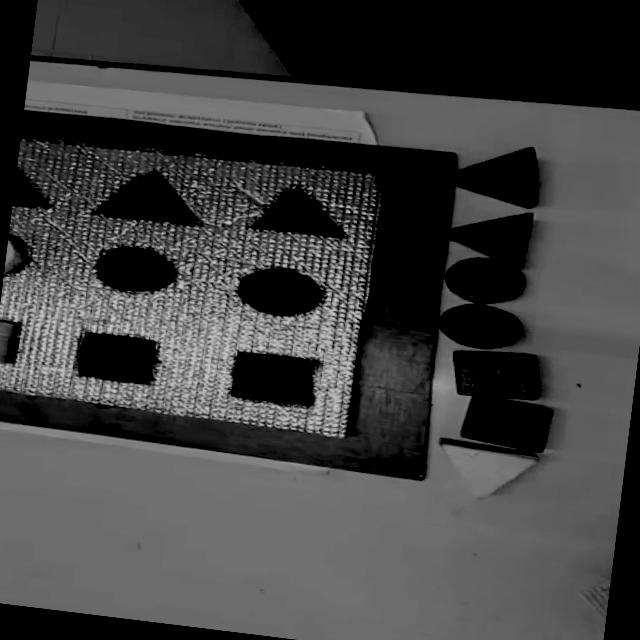bcircle: (434, 298, 526, 354)
bcube: (458, 394, 552, 454)
btriangle: (446, 203, 534, 267)
mtcircle: (230, 262, 330, 322), (91, 240, 180, 298)
mtcube: (225, 346, 321, 409), (74, 328, 162, 387)
mttriangle: (92, 162, 209, 230), (248, 180, 354, 242), (12, 160, 56, 210)
rcircle: (441, 252, 528, 308)
rcube: (448, 344, 544, 404)
rtriangle: (449, 137, 545, 211)
wb: (0, 128, 388, 441)
ytriangle: (432, 437, 540, 504)
